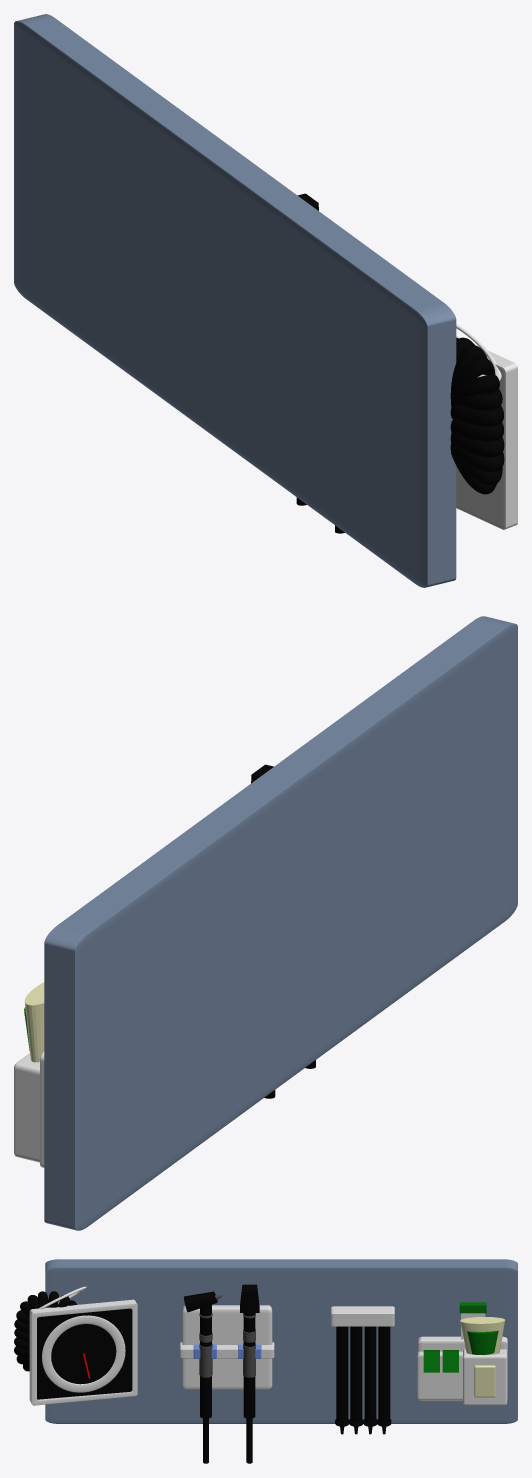
Rendered from doctorToolsER.fbx.
3 renders of one model, top to bottom at view 1: azimuth 30°, elevation 25°; view 2: azimuth 150°, elevation 25°; view 3: azimuth 270°, elevation 25°, orthographic. The views are drawn at different scales.
Visible parts, largest first — view 1: Cube, Cube.001, Torus.008, Torus.009, Torus.010, Torus.007, Torus.011, Torus.001, Torus.002; view 2: Cube, Cube.011, Cylinder.026; view 3: Cube, Plane, Cube.003, Cube.001, Torus, Cube.011, Cube.010, Cube.008, Cylinder.014, Cylinder.019, Cylinder.022, Cylinder.025 (+16 smaller).
Part boxes in pixels (bbox=[...]): Cube: bbox=[14, 14, 456, 587]; Cube.001: bbox=[456, 336, 517, 529]; Torus.008: bbox=[450, 405, 503, 426]; Torus.009: bbox=[450, 419, 503, 441]; Torus.010: bbox=[450, 433, 504, 457]; Torus.007: bbox=[450, 389, 502, 410]; Torus.011: bbox=[450, 445, 504, 472]; Torus.001: bbox=[450, 374, 499, 396]; Torus.002: bbox=[450, 358, 495, 394]; Cube: bbox=[44, 616, 517, 1230]; Cube.011: bbox=[14, 1053, 39, 1162]; Cylinder.026: bbox=[24, 982, 44, 1062]; Cube: bbox=[45, 1259, 517, 1423]; Plane: bbox=[37, 1308, 132, 1399]; Cube.003: bbox=[182, 1305, 272, 1389]; Cube.001: bbox=[29, 1299, 137, 1405]; Torus: bbox=[42, 1315, 125, 1392]; Cube.011: bbox=[463, 1349, 507, 1405]; Cube.010: bbox=[417, 1349, 462, 1399]; Cube.008: bbox=[331, 1306, 394, 1326]; Cylinder.014: bbox=[336, 1326, 348, 1423]; Cylinder.019: bbox=[350, 1326, 362, 1423]; Cylinder.022: bbox=[378, 1326, 390, 1423]; Cylinder.025: bbox=[364, 1326, 376, 1423].
Bounding box in the file's own units: 25.26 × 87.66 × 213.
